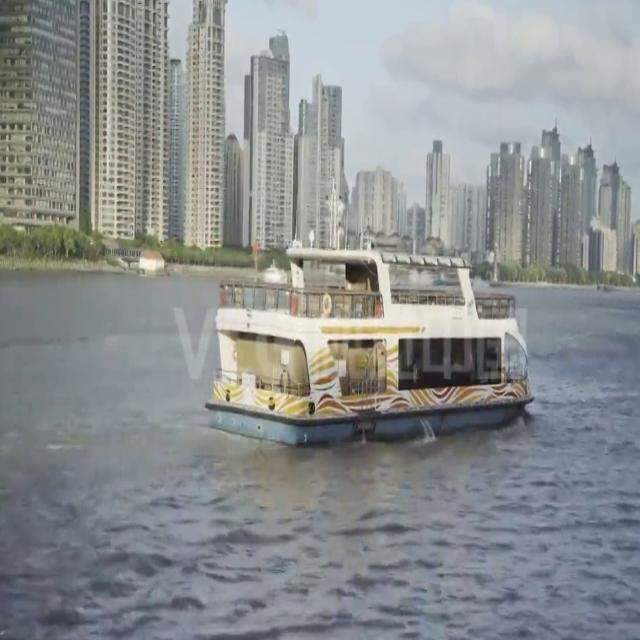passenger ship: (208, 228, 538, 453)
